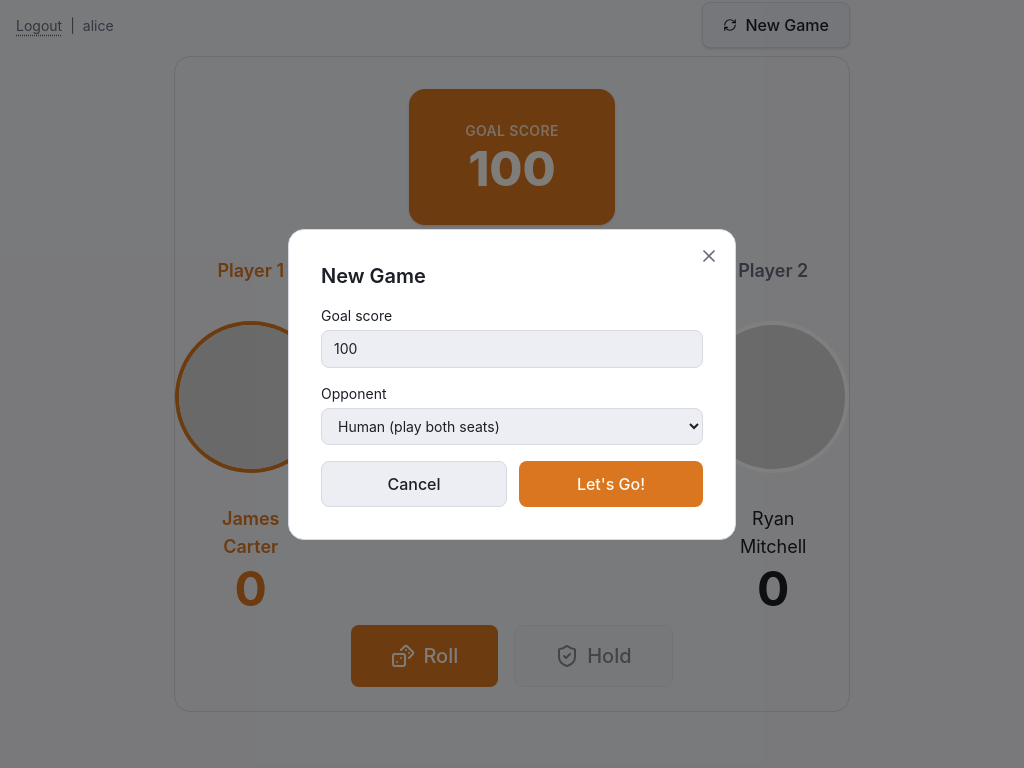
Test: GamePage › should show an abandoned notice and load the fresh game on a GAME_ABANDONED error
This screenshot has width=1024, height=768.
Click the button "Cancel" at (414, 484), box [321, 460, 507, 506]
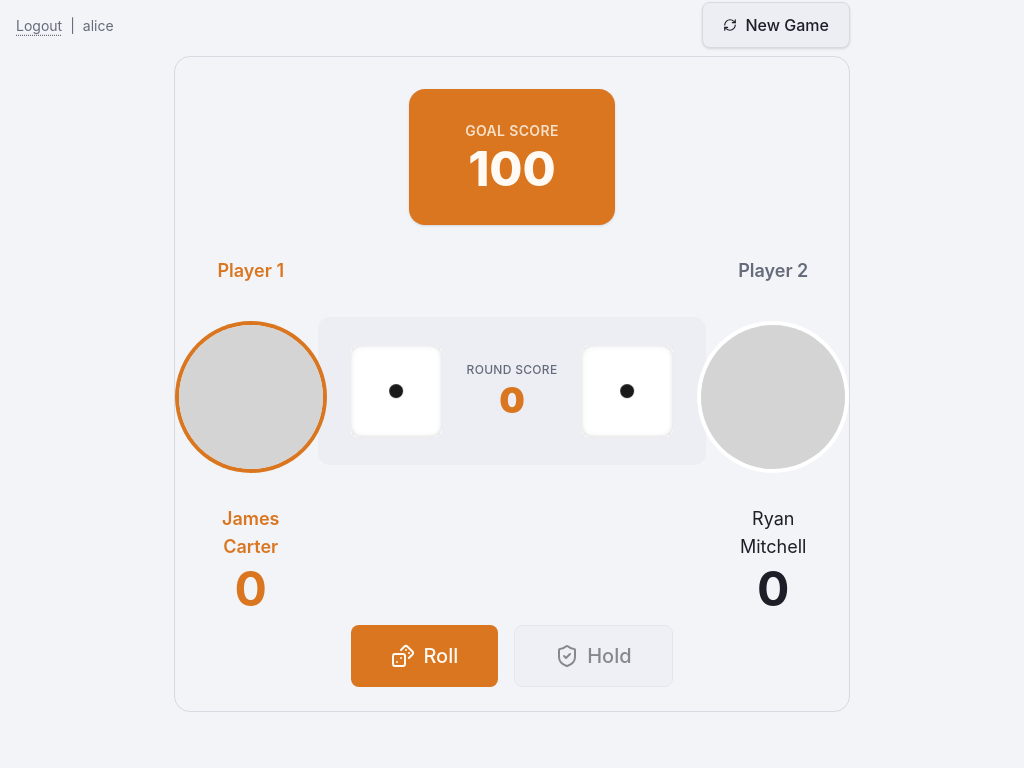
Click the button "Roll" at (425, 656), box [351, 625, 498, 687]
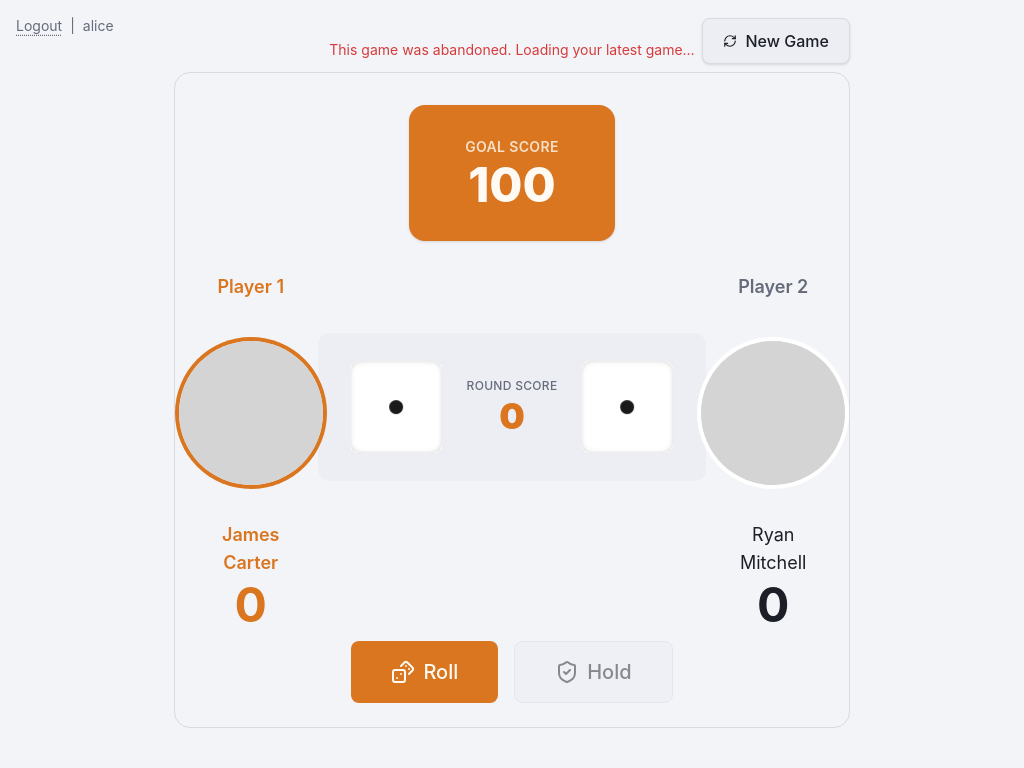
Now the text "This game was abandoned. Loading your latest game…" is shown, box [329, 40, 695, 60]
